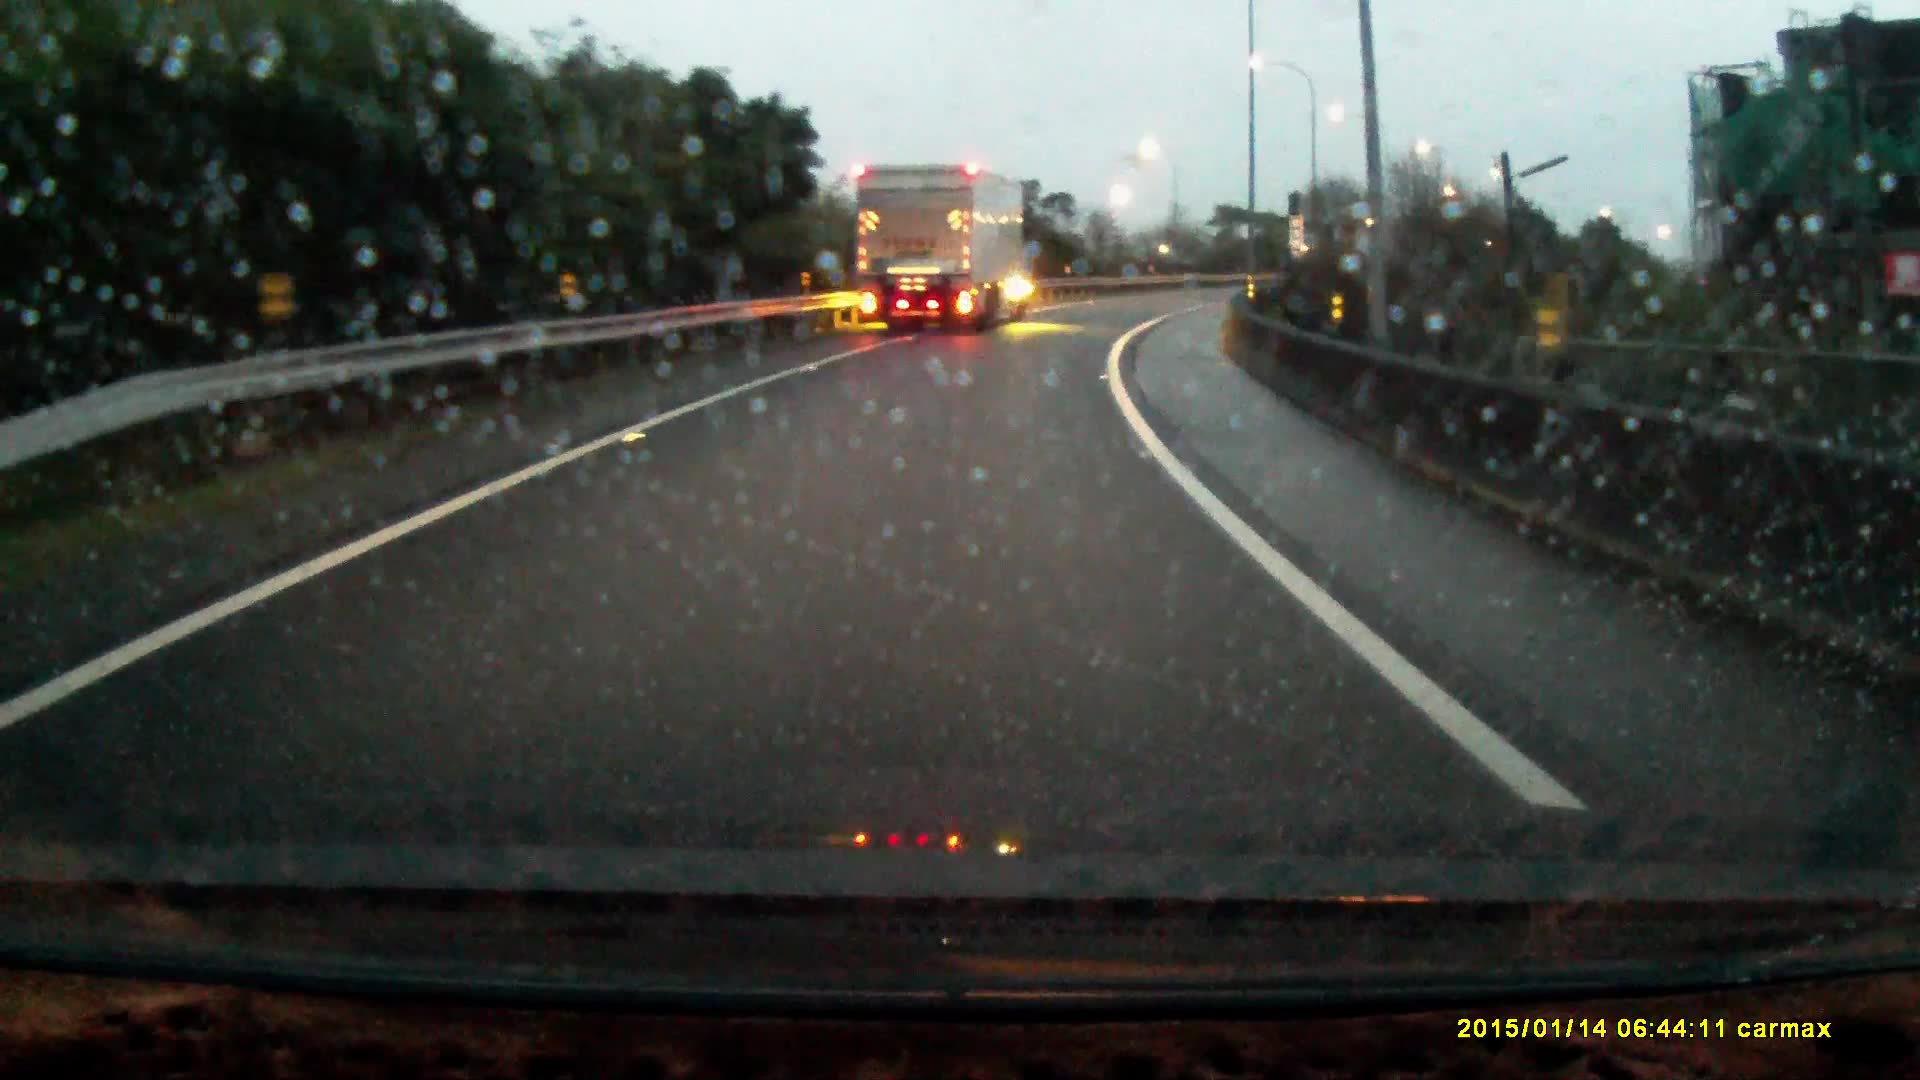vehicle: (861, 164, 1030, 332)
